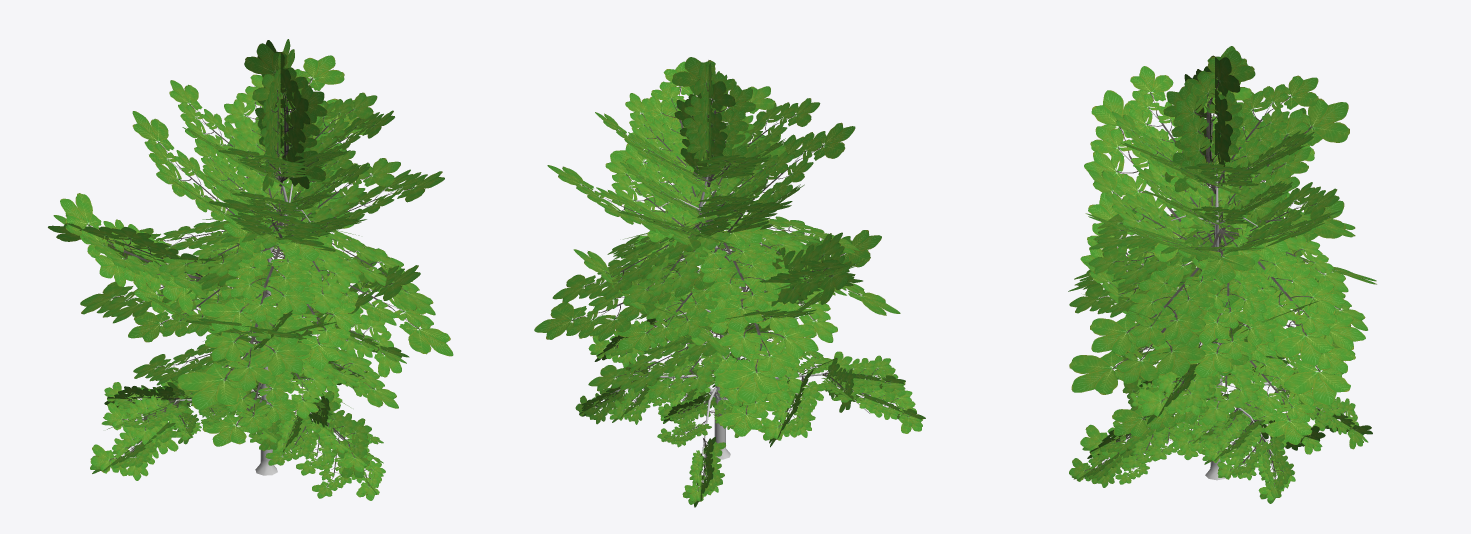
The model's file is ALMENDRO_LISTO.fbx.
3 renders of one model, left to right at view 1: azimuth 30°, elevation 25°; view 2: azimuth 150°, elevation 25°; view 3: azimuth 270°, elevation 25°, orthographic. The views are drawn at different scales.
Parts seen in each view (by area): view 1: ALMENDRO_LOD0; view 2: ALMENDRO_LOD0; view 3: ALMENDRO_LOD0.
Boxes of the visible parts, x1,y1,x2,y2 form: ALMENDRO_LOD0: (48, 39, 453, 500); ALMENDRO_LOD0: (534, 57, 925, 507); ALMENDRO_LOD0: (1068, 46, 1376, 503).
Size of what is drawn, in the model's own units: 11.09 by 10.87 by 10.55.
